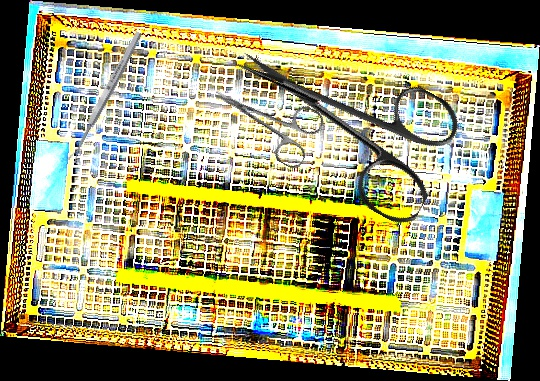Iris Scissors: (207, 4, 473, 231), (201, 64, 328, 172)
Surgical Spoon: (66, 30, 144, 164)
